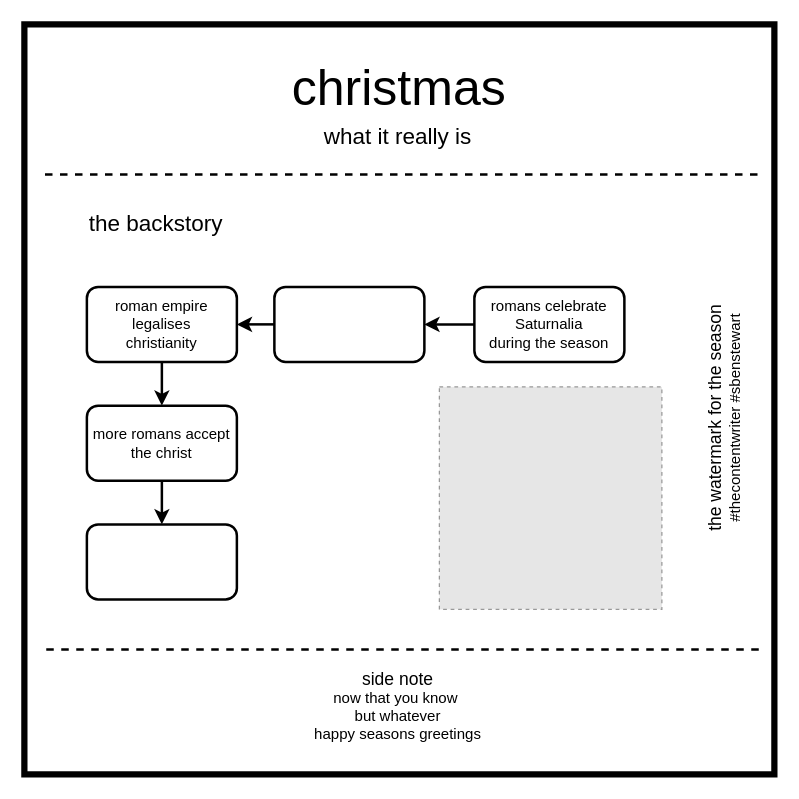
The diagram is 799 pixels wide and 799 high, and some of its shapes have lost their labels. Grey dashed boxes stand in for pictures. The shapes that lost their labels are listed below. From the top down, each one's centre as x and y in pixels, then its label:
point (348, 323): bunch of romans accept the christ
point (161, 561): celebrates christmas during the season
